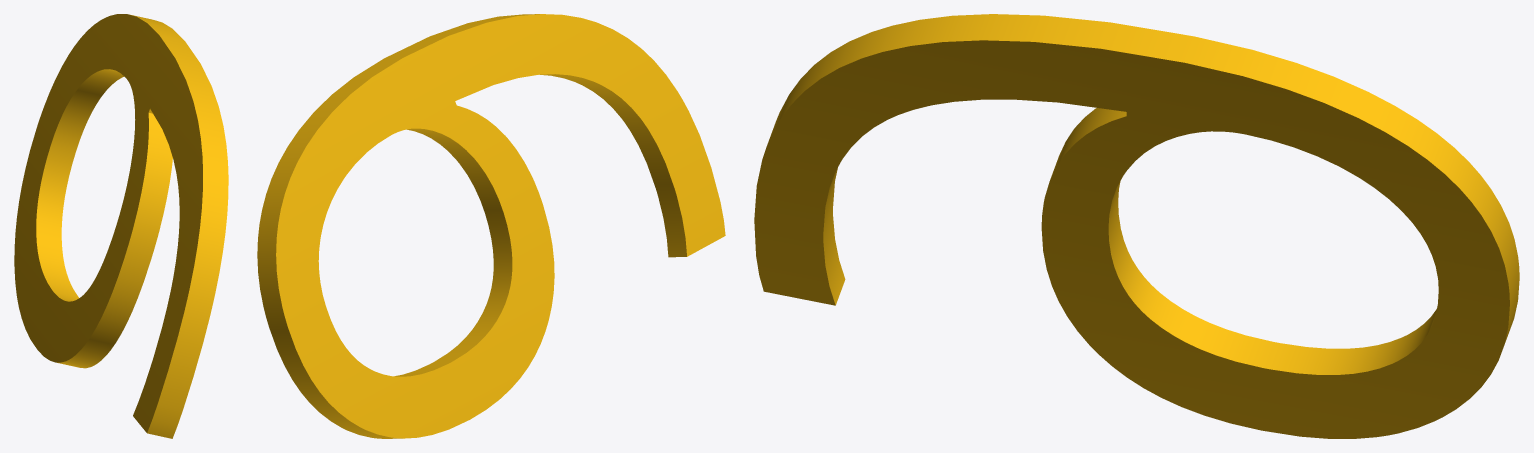
Rendered from Number_9.gltf.
3 views of the same model, side by side, from view 1: azimuth 30°, elevation 25°; view 2: azimuth 150°, elevation 25°; view 3: azimuth 270°, elevation 25° (orthographic). The views are drawn at different scales.
Visible parts, largest first — view 1: Sub_9_Cell_2_1_Number_9; view 2: Sub_9_Cell_2_1_Number_9; view 3: Sub_9_Cell_2_1_Number_9.
Boxes of the visible parts, <box> form: Sub_9_Cell_2_1_Number_9: <box>14,14,228,438</box>; Sub_9_Cell_2_1_Number_9: <box>257,14,725,438</box>; Sub_9_Cell_2_1_Number_9: <box>754,14,1519,438</box>.
Bounding box in the file's own units: 0.011 × 0.0163 × 0.0253.
